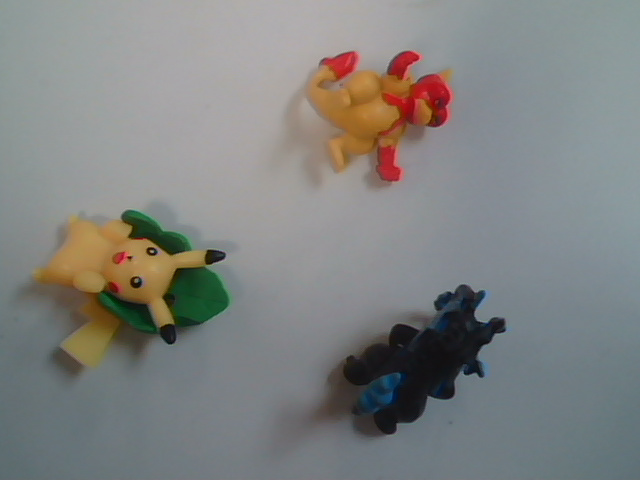charizard: (311, 264, 527, 480)
magmar: (261, 30, 483, 241)
pikachu: (14, 163, 246, 394)
